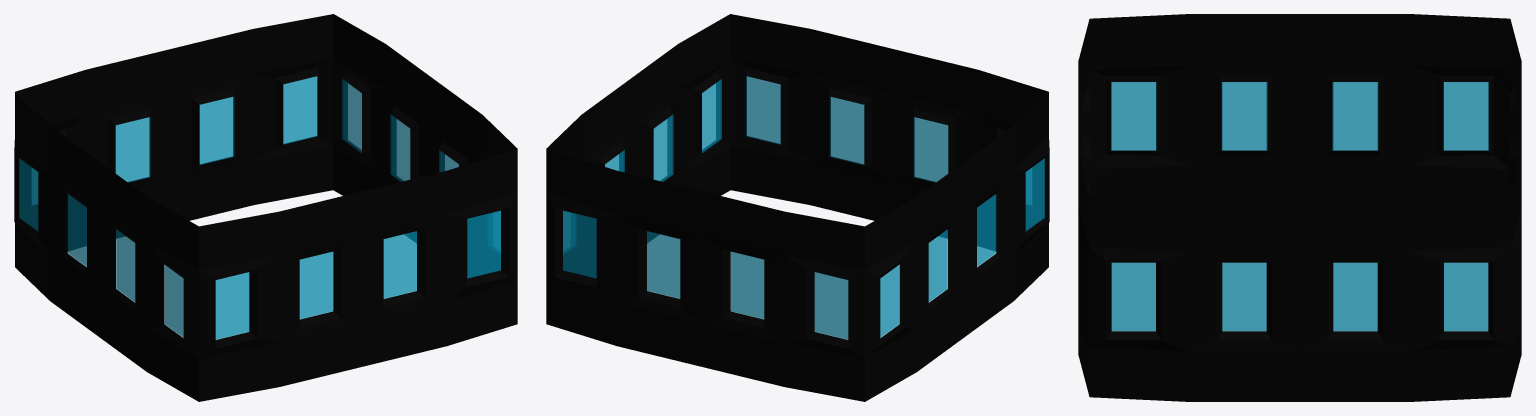
Rendered from buildingBlocks.fbx.
The picture shows the model from 3 angles, left to right: view 1: azimuth 30°, elevation 25°; view 2: azimuth 150°, elevation 25°; view 3: azimuth 270°, elevation 25°; orthographic projection. The views are drawn at different scales.
Visible parts, largest first — view 1: Cube; view 2: Cube; view 3: Cube.
Part boxes in pixels (box(x1,y1,x2,y2)): Cube: box(14, 14, 517, 401); Cube: box(546, 14, 1049, 401); Cube: box(1078, 14, 1521, 401).
Size of the model in its own units: 1000 by 500 by 1000.
